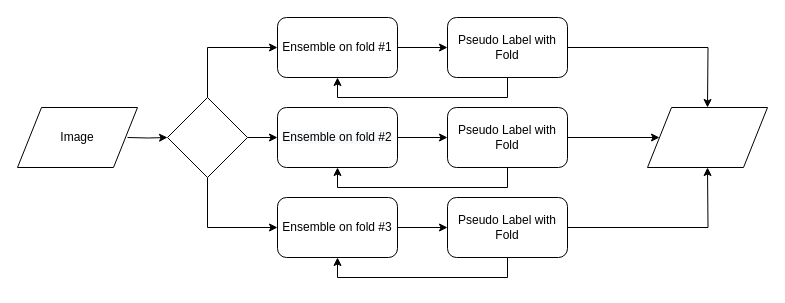
Image size: 785x303. Some labels were removed from this diagram. Each missing label, with the centre of its shape:
Detect similarity to Fold: the point at 207,137
Predictions: the point at 707,137
